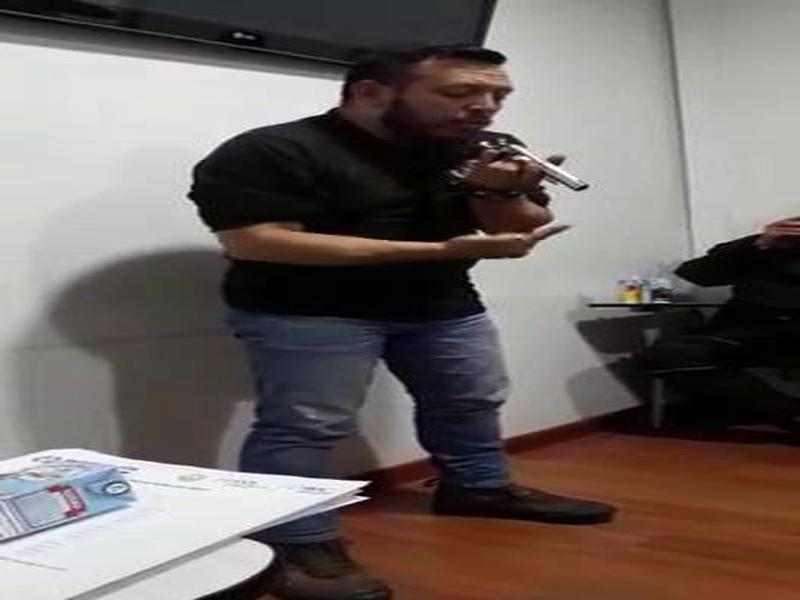Revolver: (457, 116, 614, 224)
